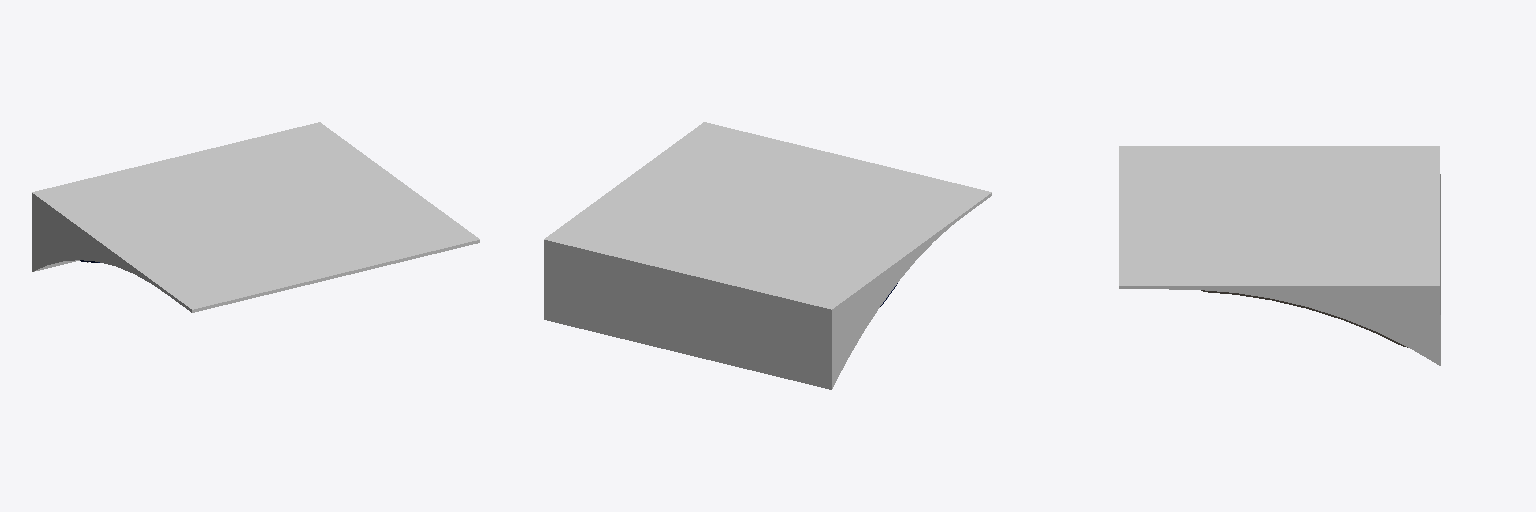
Rendered from orelsan_mur.obj.
The picture shows the model from 3 angles: view 1: azimuth 30°, elevation 25°; view 2: azimuth 150°, elevation 25°; view 3: azimuth 270°, elevation 25°; orthographic projection.
Visible parts, largest first — view 1: orelsan_mur.obj.1; view 2: orelsan_mur.obj.1; view 3: orelsan_mur.obj.1.
Boxes of the visible parts, <box> form: orelsan_mur.obj.1: <box>32,122,479,312</box>; orelsan_mur.obj.1: <box>544,122,991,389</box>; orelsan_mur.obj.1: <box>1119,146,1440,365</box>.
Bounding box in the file's own units: 500 × 133 × 483.